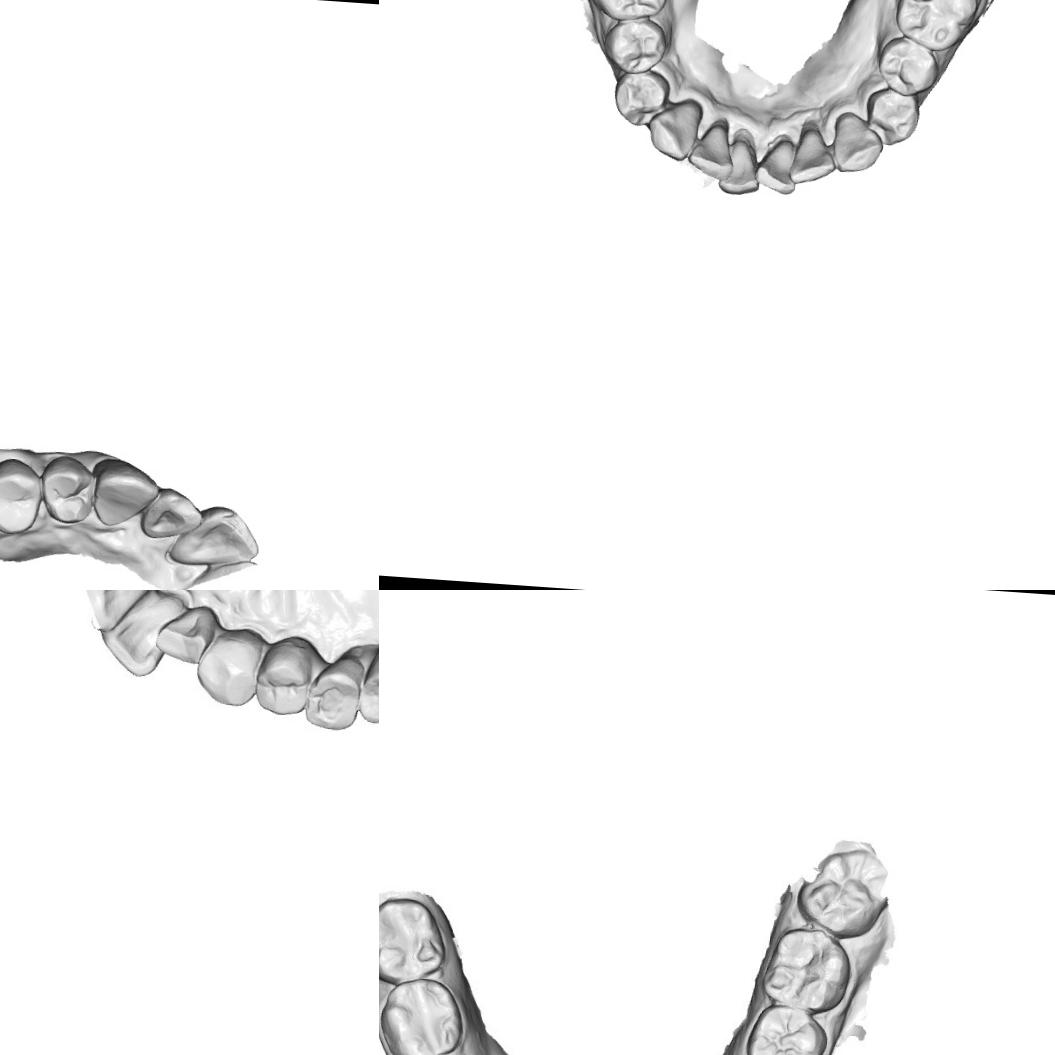canine: (192, 623, 268, 708), (88, 454, 162, 530), (644, 95, 704, 162), (830, 109, 886, 174)
incisor: (96, 590, 184, 686), (164, 499, 264, 572), (138, 483, 206, 543), (74, 590, 157, 636), (686, 116, 736, 182), (786, 126, 838, 185), (716, 138, 763, 198), (753, 136, 798, 196), (164, 606, 213, 658)
molar: (762, 920, 856, 1010), (798, 843, 889, 935), (380, 973, 468, 1055), (379, 893, 447, 982), (744, 996, 830, 1055), (892, 0, 984, 55), (582, 0, 674, 24)
premolar: (251, 631, 320, 720), (302, 650, 368, 732), (874, 34, 942, 99), (37, 453, 96, 526), (601, 16, 669, 76), (610, 66, 672, 128), (862, 85, 922, 148), (0, 455, 44, 536), (352, 636, 379, 728)
